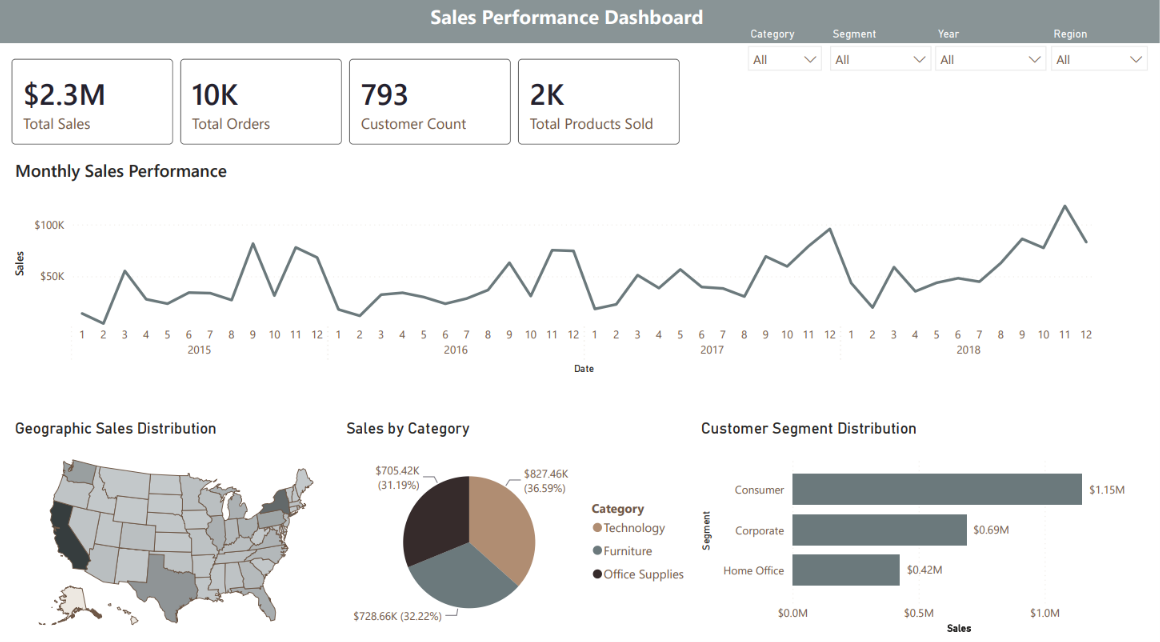

Layout of this report page (visuals, bound fields, positions):
{"tool":"powerbi","page":{"name":"Executive Summary","canvas":[1280,720],"ordinal":0},"visuals":[{"type":"clusteredBarChart","title":"Customer Segment Distribution","fields":{"Category":["superstore sales.Segment"],"Y":["Sum(superstore sales.Sales)"]},"box":[767.9,461,491.6,240.9],"z":0},{"type":"pieChart","title":"Sales by Category","fields":{"Y":["Sum(superstore sales.Sales)"],"Category":["superstore sales.Category"]},"box":[379.1,461,388.9,240.9],"z":1000},{"type":"shapeMap","title":"Geographic Sales Distribution","fields":{"Value":["Sum(superstore sales.Sales)"],"Category":["superstore sales.State"]},"box":[15.9,461,363.2,240.9],"z":2000},{"type":"lineChart","title":"Monthly Sales Performance","fields":{"Category":["superstore sales.Order_Date.Variation.Date Hierarchy.Year","superstore sales.Month"],"Y":["Sum(superstore sales.Sales)"]},"box":[15.9,174.9,1193.5,242.1],"z":3000},{"type":"cardVisual","fields":{"Data":["Sum(superstore sales.Sales)","superstore sales.Total Orders","superstore sales.Number of Customers","superstore sales.Total Products"]},"box":[0,48.8,768,128],"z":4000},{"type":"shape","box":[0,0,1280.3,48.9],"z":5000},{"type":"slicer","fields":{"Values":["superstore sales.Order_Date.Variation.Date Hierarchy.Year"]},"box":[1019.3,27.3,141.4,69.3],"z":6000},{"type":"textbox","box":[470.6,0,323.8,66.2],"z":7000},{"type":"slicer","fields":{"Values":["superstore sales.Region"]},"box":[1145.7,27.3,126.4,69.3],"z":8000},{"type":"slicer","fields":{"Values":["superstore sales.Category"]},"box":[814.3,27.3,100.7,55.7],"z":9000},{"type":"slicer","fields":{"Values":["superstore sales.Segment"]},"box":[904.3,27.3,130.7,69.3],"z":10000}]}

Visuals, with their boxes in screenshot pixels (x1, y1, x2, y2), scaled from the page's 1280x720 canvas onto the 1160x642 screenshot:
"Customer Segment Distribution" clusteredBarChart: select_region(696, 411, 1141, 626)
"Sales by Category" pieChart: select_region(344, 411, 696, 626)
"Geographic Sales Distribution" shapeMap: select_region(14, 411, 344, 626)
"Monthly Sales Performance" lineChart: select_region(14, 156, 1096, 372)
cardVisual - Sum(superstore sales.Sales) x superstore sales.Total Orders: select_region(0, 44, 696, 158)
shape: select_region(0, 0, 1159, 44)
slicer - superstore sales.Order_Date.Variation.Date Hierarchy.Year: select_region(924, 24, 1052, 86)
textbox: select_region(426, 0, 720, 59)
slicer - superstore sales.Region: select_region(1038, 24, 1153, 86)
slicer - superstore sales.Category: select_region(738, 24, 829, 74)
slicer - superstore sales.Segment: select_region(820, 24, 938, 86)
